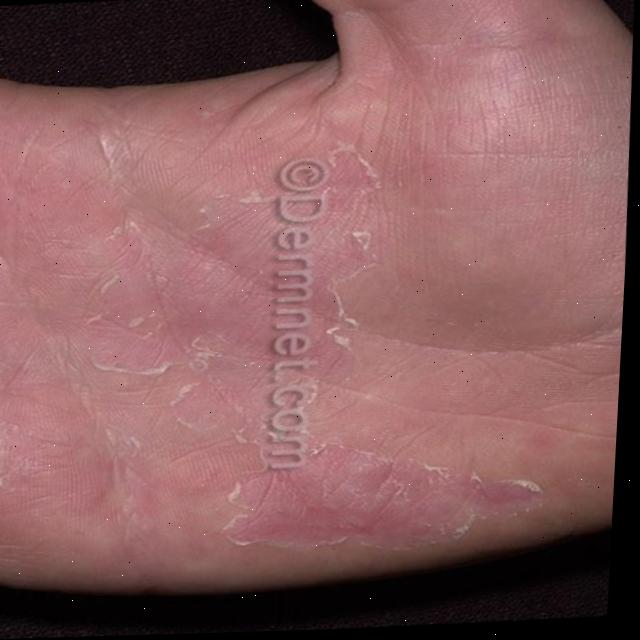Eczema: (90, 117, 479, 544)
